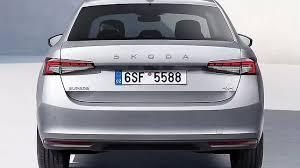skoda: (108, 55, 193, 61)
